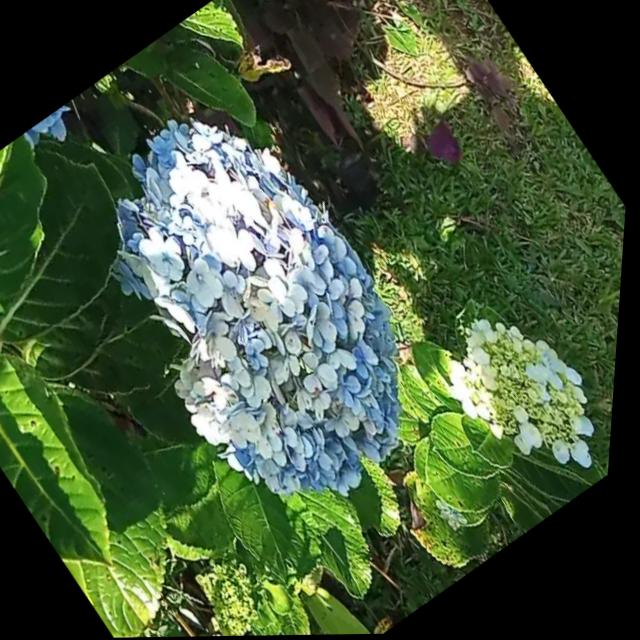Flower: (27, 60, 491, 547), (420, 285, 625, 509)
